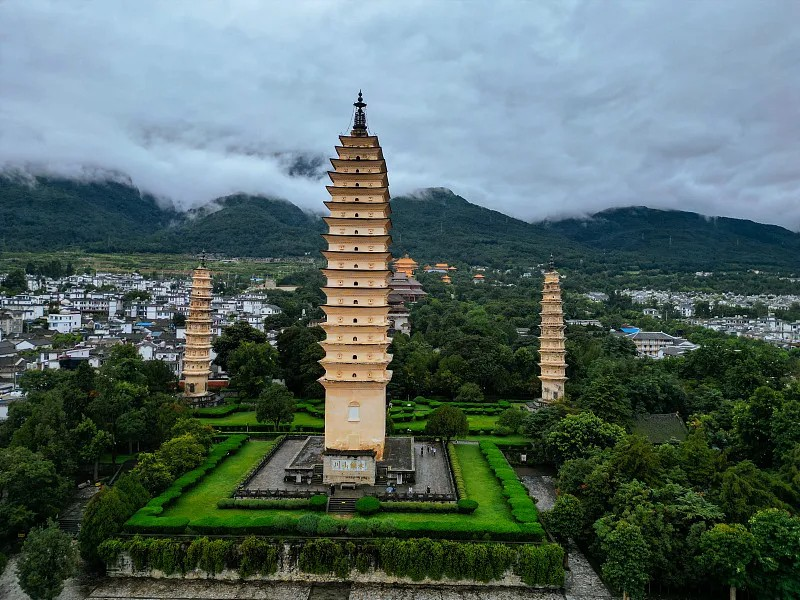ThreePagoda: (317, 88, 392, 461)
